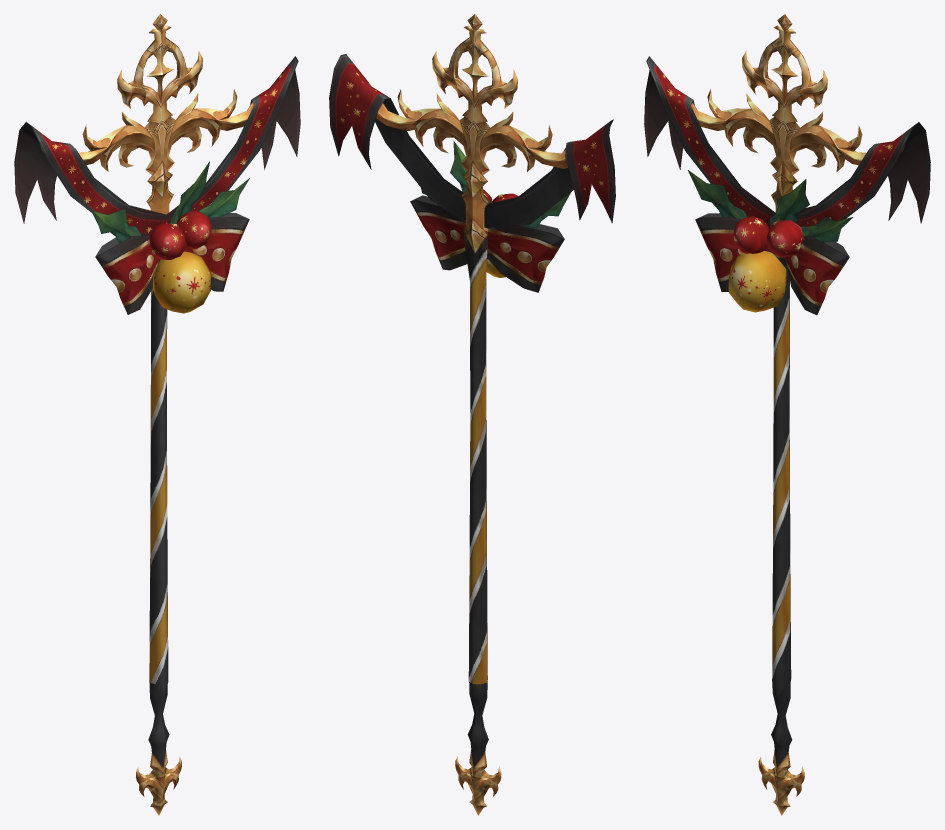
The model's file is Hero_Lorraine_Cos18Christmas_Weapon.fbx.
3 views of the same model, side by side, from view 1: azimuth 30°, elevation 25°; view 2: azimuth 150°, elevation 25°; view 3: azimuth 330°, elevation 25° (orthographic).
Parts seen in each view (by area): view 1: Hero_Lorraine_Cos18Christmas_Weapon; view 2: Hero_Lorraine_Cos18Christmas_Weapon; view 3: Hero_Lorraine_Cos18Christmas_Weapon.
Boxes of the visible parts, x1,y1,x2,y2 form: Hero_Lorraine_Cos18Christmas_Weapon: (14,14,300,815); Hero_Lorraine_Cos18Christmas_Weapon: (329,14,615,815); Hero_Lorraine_Cos18Christmas_Weapon: (644,14,930,815).
Size of the model in its own units: 0.7336 by 1.97 by 0.1996.
1 material, 1 textured.
